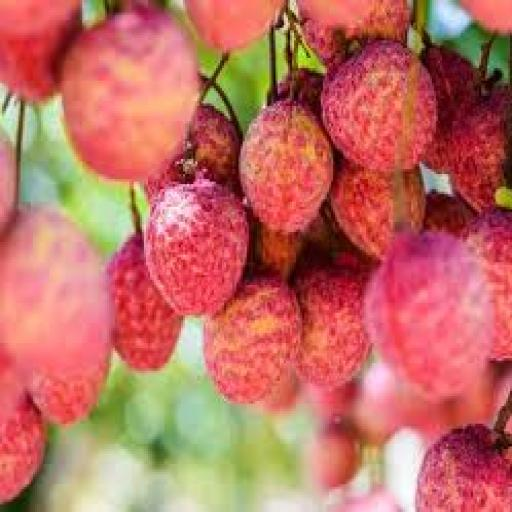lychee: (62, 8, 199, 181), (364, 233, 493, 401), (0, 207, 111, 380), (323, 41, 437, 171), (144, 180, 248, 315), (204, 278, 302, 403), (241, 101, 333, 232), (107, 235, 183, 370), (144, 104, 240, 204), (295, 265, 370, 388), (416, 424, 511, 511), (449, 89, 511, 211), (0, 13, 80, 100), (465, 210, 511, 360), (424, 46, 479, 171), (332, 162, 396, 259), (29, 351, 111, 426), (186, 0, 283, 52), (0, 396, 45, 504), (190, 104, 242, 189), (352, 361, 403, 446), (307, 424, 361, 489), (0, 0, 80, 37), (346, 0, 411, 42), (255, 225, 304, 279), (424, 192, 474, 237), (305, 381, 357, 423), (278, 69, 322, 118), (299, 0, 376, 27), (0, 344, 26, 423), (303, 18, 345, 65), (260, 371, 300, 416), (0, 134, 16, 237), (461, 0, 511, 32), (334, 490, 400, 511)
